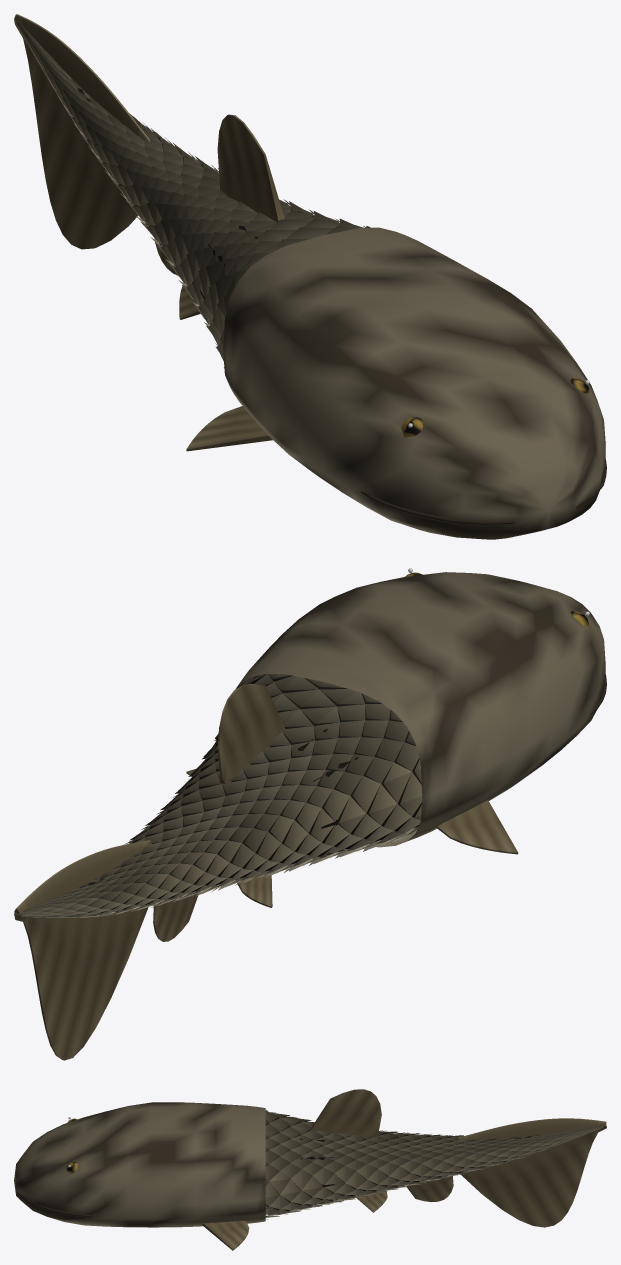
Rendered from EntelognathusPrimordialis.fbx.
The picture shows the model from 3 angles, top to bottom: view 1: azimuth 30°, elevation 25°; view 2: azimuth 150°, elevation 25°; view 3: azimuth 270°, elevation 25°; orthographic projection. The views are drawn at different scales.
Visible parts, largest first — view 1: EntelognathusPrimordialis; view 2: EntelognathusPrimordialis; view 3: EntelognathusPrimordialis.
Boxes of the visible parts, box(x1,y1,x2,y2) form: EntelognathusPrimordialis: box(14, 14, 606, 539); EntelognathusPrimordialis: box(14, 568, 606, 1060); EntelognathusPrimordialis: box(14, 1089, 606, 1250).
Size of the model in its own units: 0.5768 by 0.4114 by 1.6.
